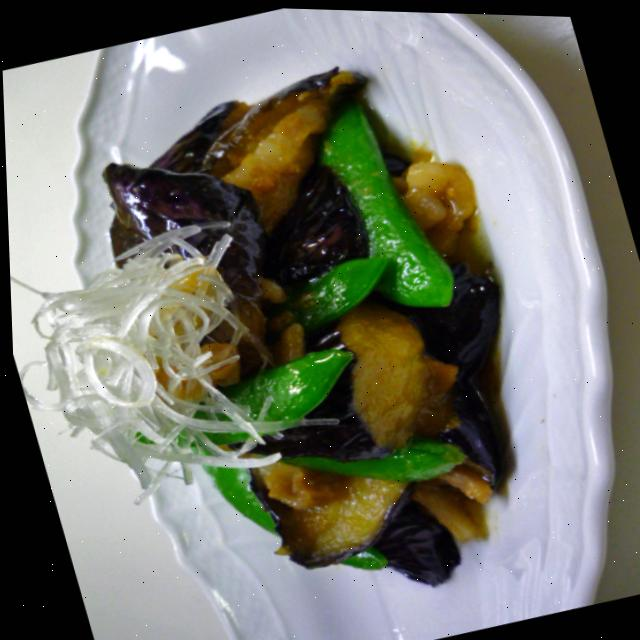鸡蛋料理: (0, 5, 589, 640)
